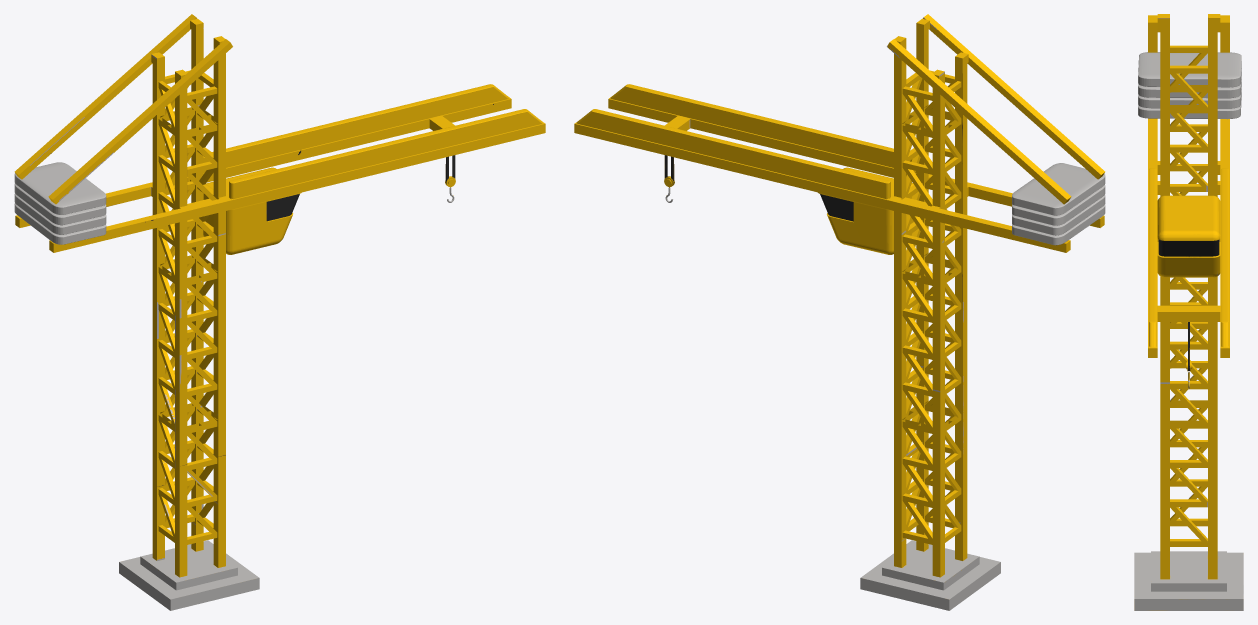
Rendered from crane.fbx.
3 views of the same model, side by side, from view 1: azimuth 30°, elevation 25°; view 2: azimuth 150°, elevation 25°; view 3: azimuth 270°, elevation 25° (orthographic). The views are drawn at different scales.
Visible parts, largest first — view 1: BézierCurve; view 2: BézierCurve; view 3: BézierCurve.
Boxes of the visible parts, <box> form: BézierCurve: <box>14,14,545,610</box>; BézierCurve: <box>574,14,1105,610</box>; BézierCurve: <box>1134,14,1243,610</box>.
Bounding box in the file's own units: 1906 × 2025 × 344.
1 material, 1 textured.
